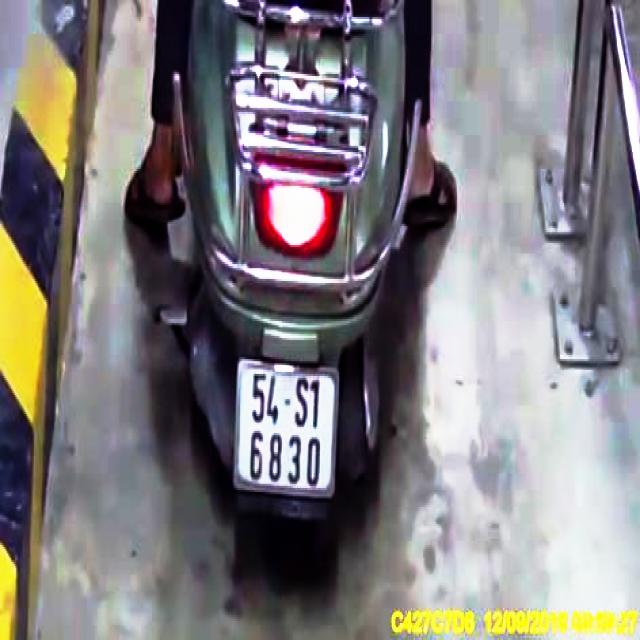license_plate: (238, 362, 338, 495)
